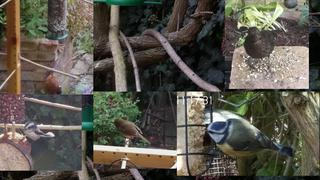blackbird: (243, 27, 282, 76)
blue tit: (204, 118, 293, 158)
long tailed tit: (20, 121, 55, 145)
robin: (112, 118, 150, 144)
